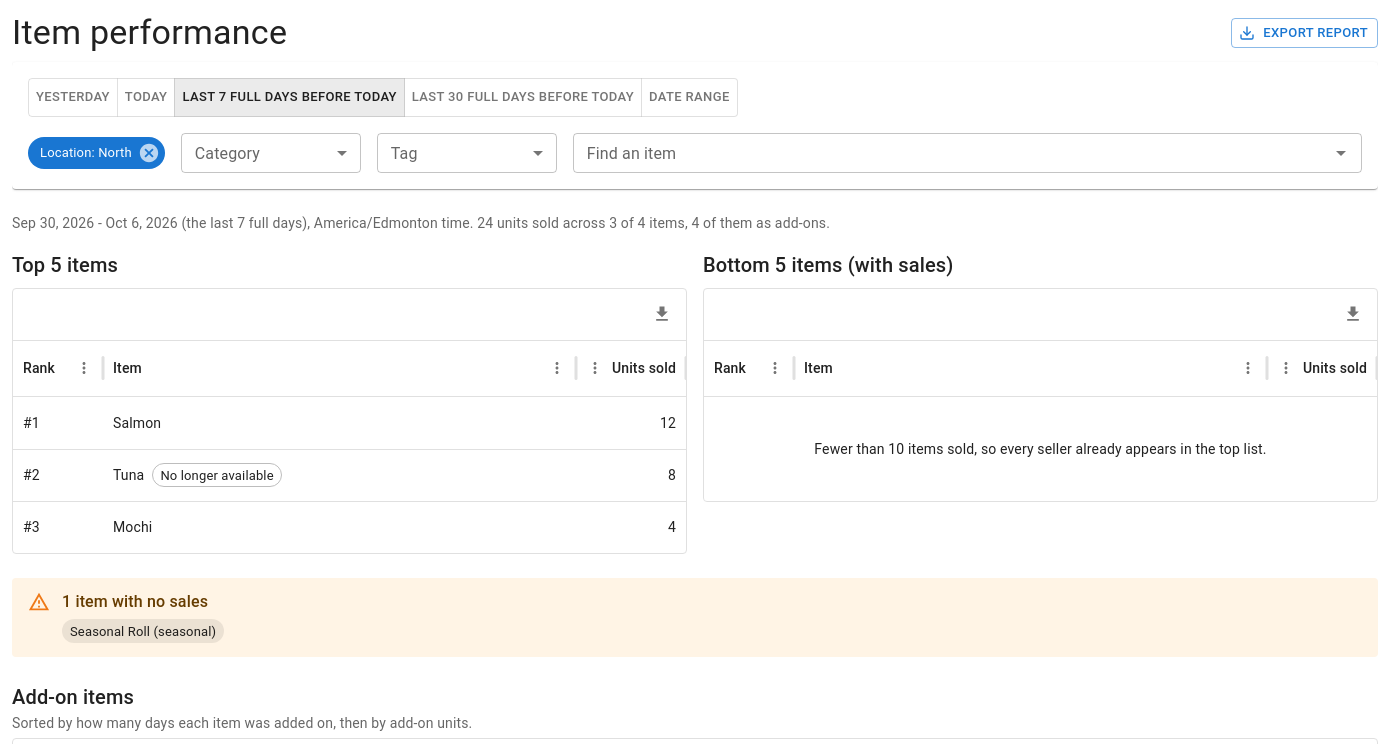
Scenario: ItemPerformance › Date range › waits for both dates before requesting a custom range
Expected: the text "units sold across" is shown, [493,215,609,231]
Click the button "Date Range". click: x=689, y=97
box: [641,78,738,117]
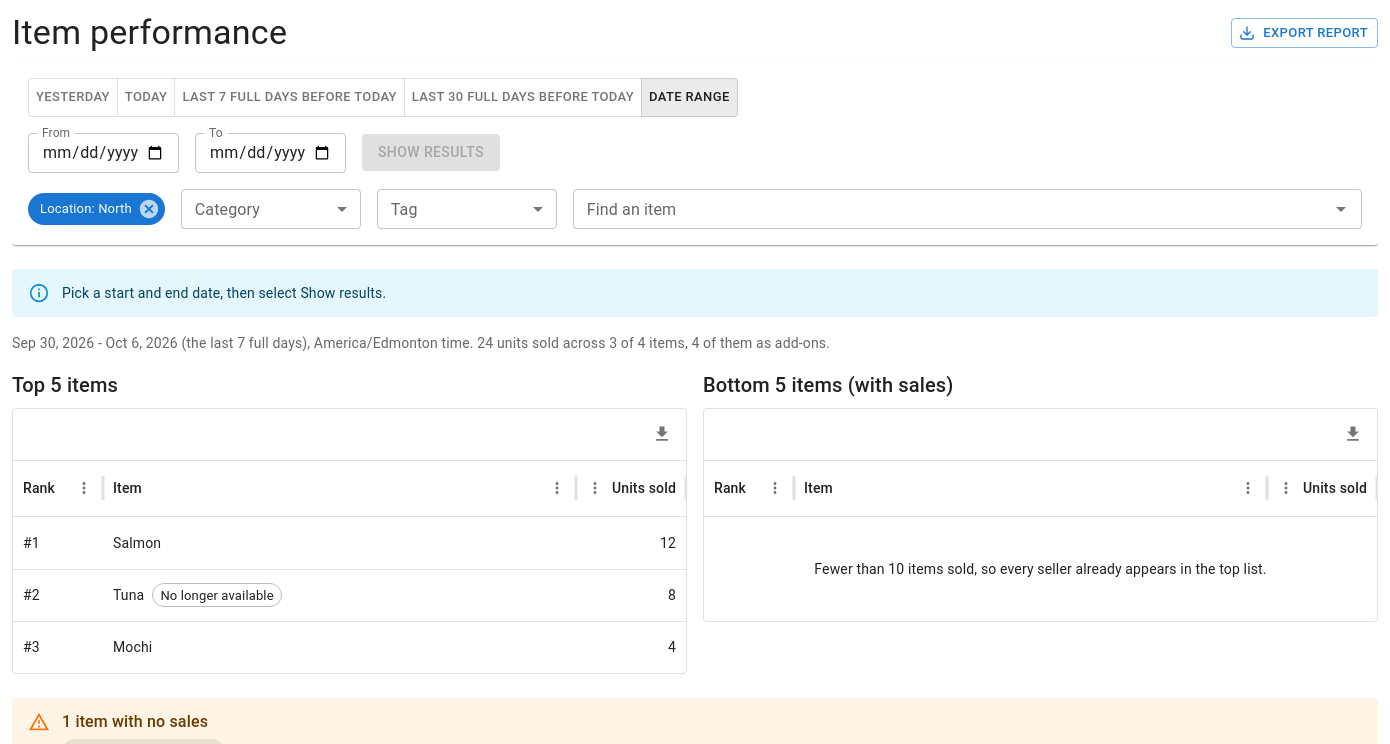
Expected: the text "Pick a start and end date, then select Show results." is shown, [62,285,386,301]
Expected: the button "Show results" is disabled, [362,134,500,171]
